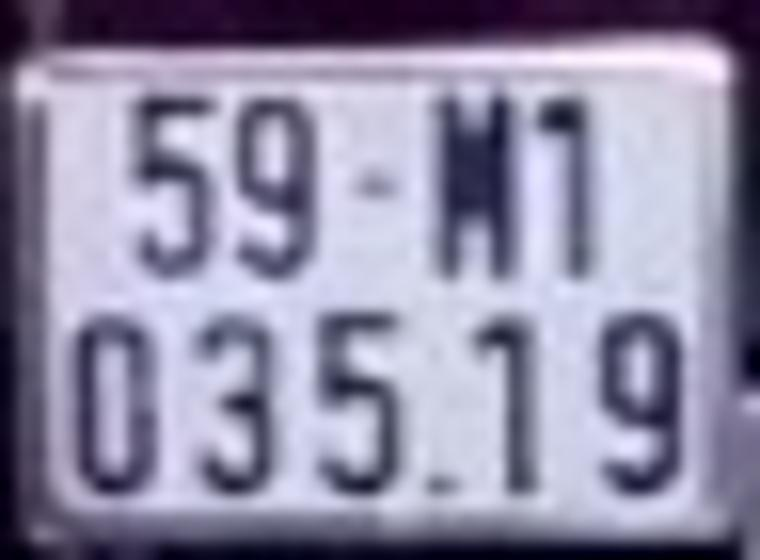-: (353, 174, 397, 199)
.: (429, 473, 450, 494)
0: (77, 315, 157, 498)
1: (479, 315, 541, 492), (542, 91, 590, 272)
3: (202, 315, 273, 494)
5: (127, 95, 213, 279), (315, 311, 399, 494)
9: (599, 309, 683, 495), (240, 95, 317, 280)
M: (435, 95, 509, 280)
